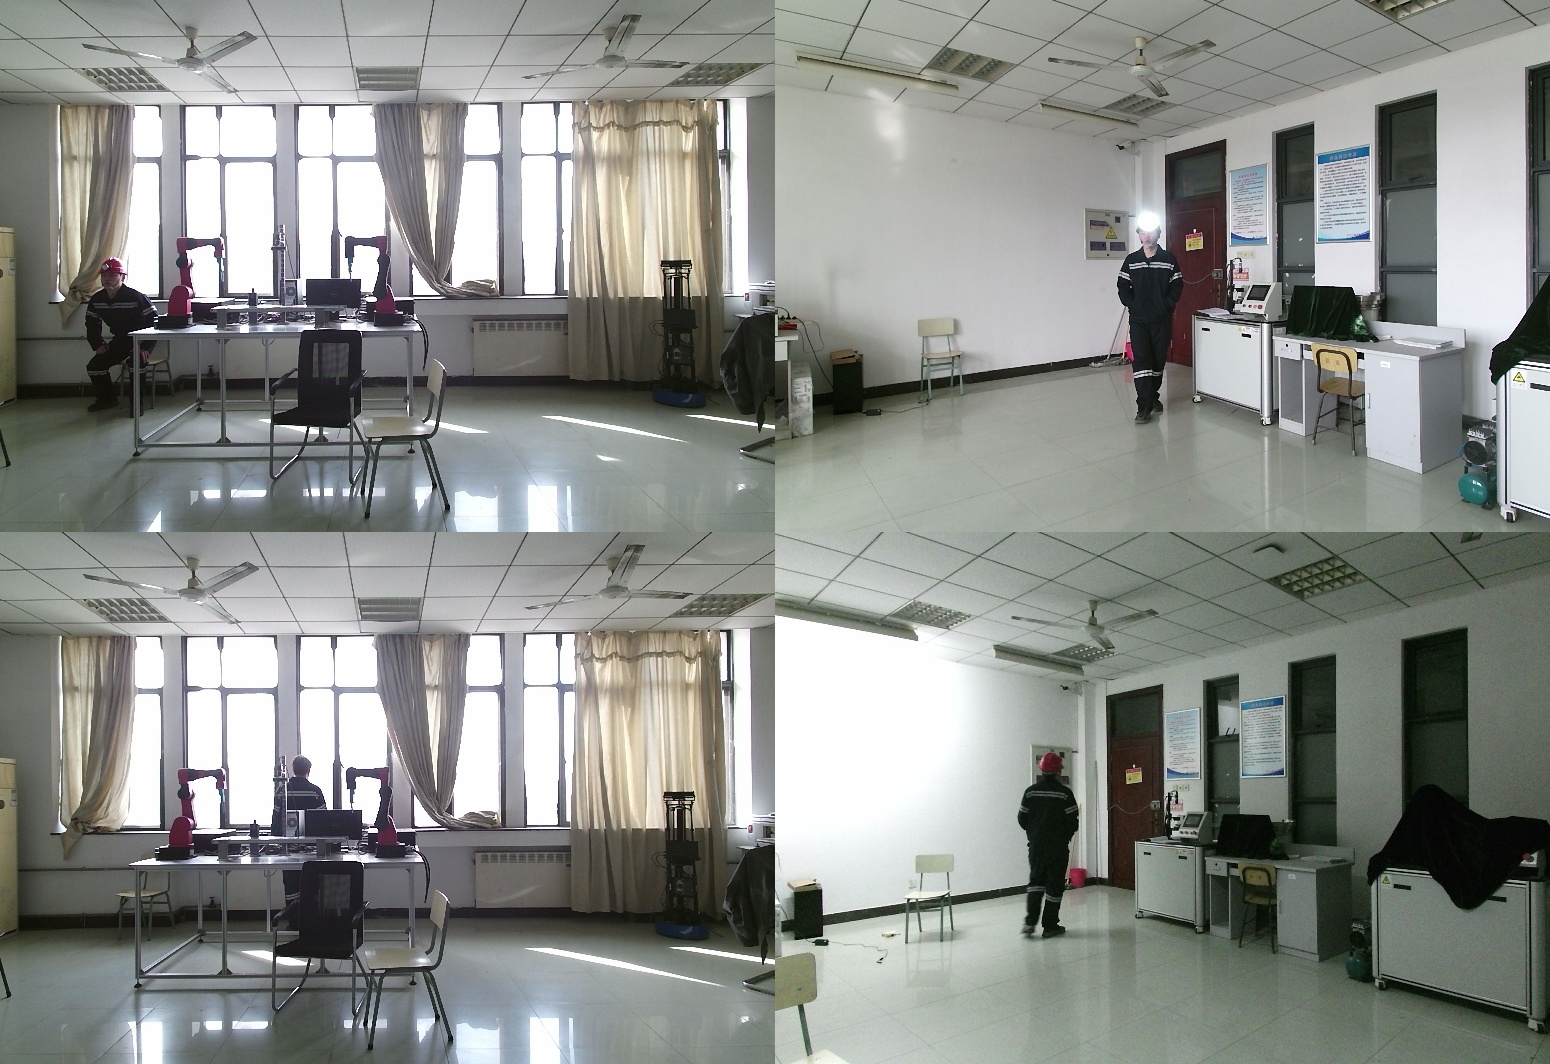person: (1114, 221, 1189, 429), (1008, 753, 1081, 947), (75, 259, 161, 413), (272, 756, 336, 954)
